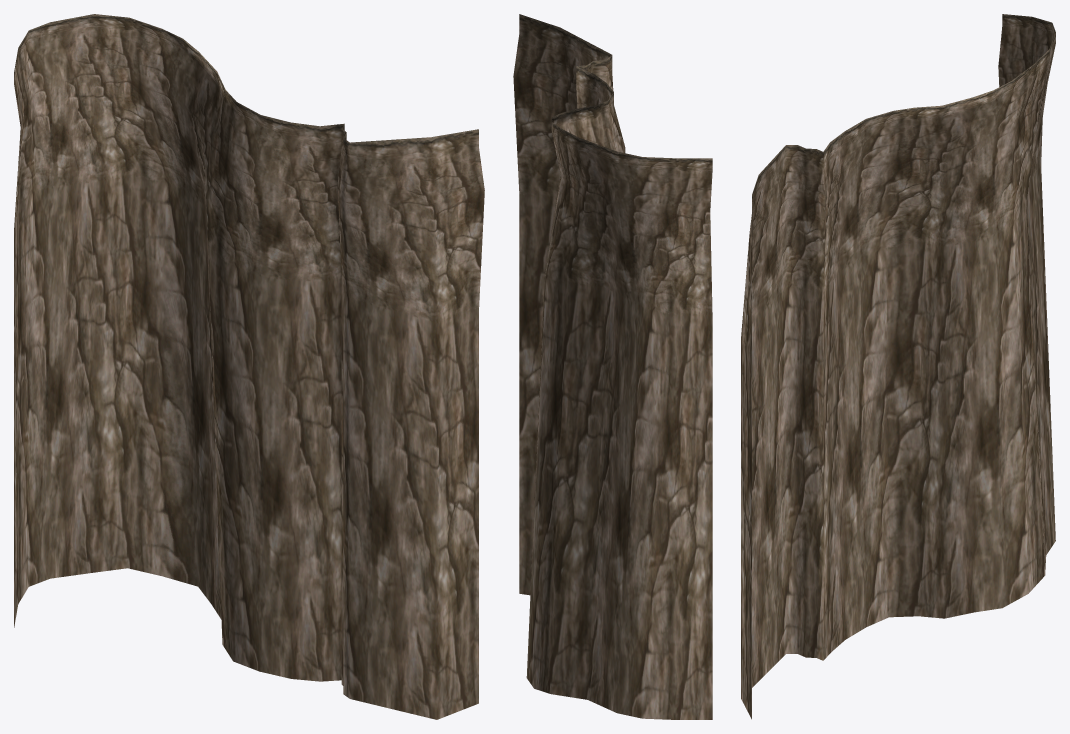
The model's file is OVERHILL_A_01_LINE158.fbx.
3 views of the same model, side by side, from view 1: azimuth 30°, elevation 25°; view 2: azimuth 150°, elevation 25°; view 3: azimuth 270°, elevation 25° (orthographic). The views are drawn at different scales.
Visible parts, largest first — view 1: OVERHILL_A_01_LINE158; view 2: OVERHILL_A_01_LINE158; view 3: OVERHILL_A_01_LINE158.
Part boxes in pixels (x1=…): OVERHILL_A_01_LINE158: x1=14, y1=14, x2=484, y2=719; OVERHILL_A_01_LINE158: x1=513, y1=14, x2=712, y2=719; OVERHILL_A_01_LINE158: x1=741, y1=14, x2=1055, y2=719.
Size of the model in its own units: 156705 by 280272 by 139810.
2 materials, 2 textured.
